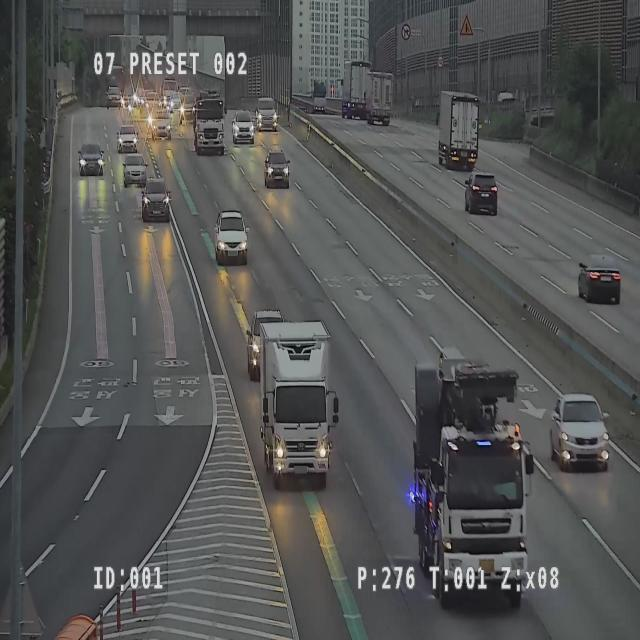Car: (549, 395, 612, 475), (243, 307, 286, 380), (578, 257, 622, 306), (214, 210, 251, 265), (464, 173, 498, 219), (142, 179, 171, 223), (264, 149, 290, 190), (124, 151, 148, 189), (78, 144, 105, 176), (151, 106, 173, 144), (232, 110, 255, 145), (256, 97, 277, 132), (179, 93, 196, 127), (117, 126, 138, 153), (108, 78, 122, 112), (146, 89, 160, 112)
Truck: (406, 346, 534, 616), (260, 323, 340, 492), (435, 88, 480, 170), (336, 59, 370, 124), (194, 91, 227, 156), (367, 74, 393, 126), (310, 80, 328, 114), (161, 71, 177, 105)
